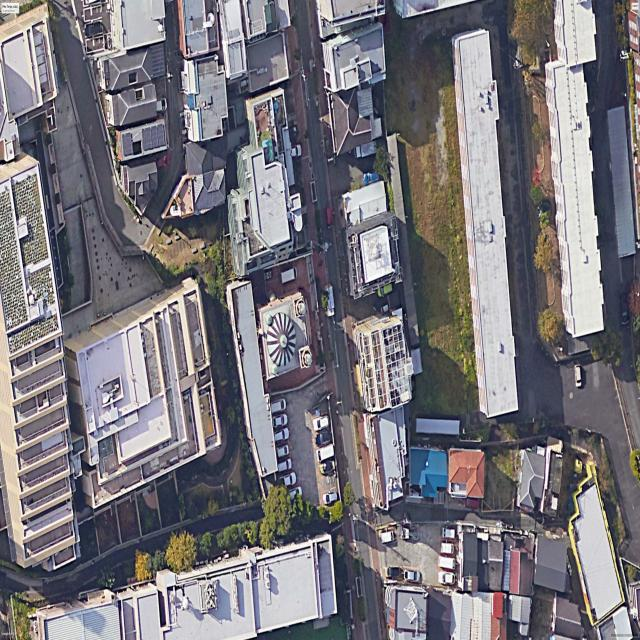Home: (328, 88, 381, 155), (96, 44, 165, 93), (458, 529, 504, 592), (450, 592, 504, 640), (507, 548, 534, 635), (105, 84, 156, 127), (116, 118, 167, 161), (120, 161, 158, 213), (534, 536, 568, 592), (447, 449, 485, 499), (516, 450, 546, 512), (410, 448, 447, 498), (541, 441, 563, 518), (485, 592, 506, 640)
mosque: (259, 293, 312, 379)
